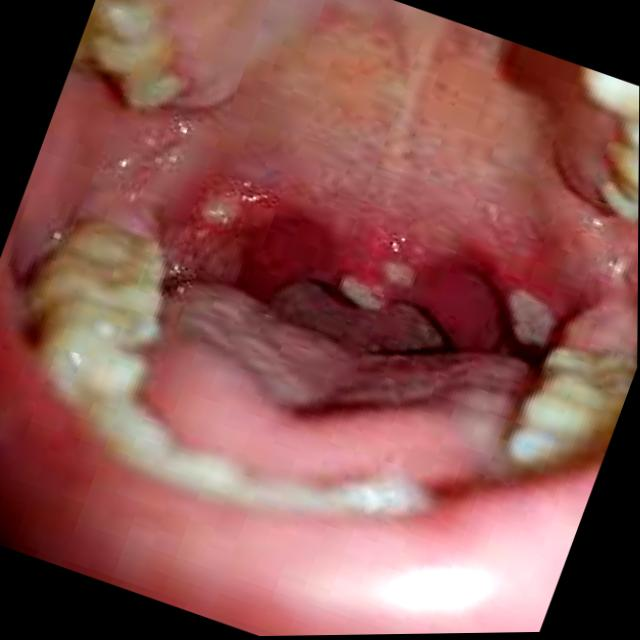ulcer: (196, 190, 244, 222), (342, 276, 384, 309), (386, 261, 416, 287)
